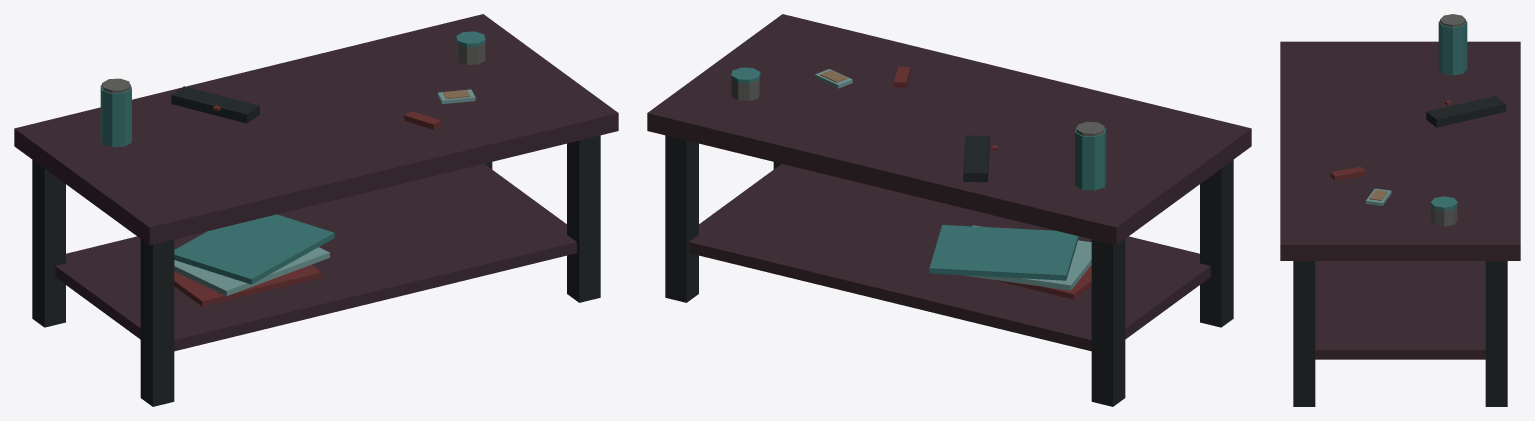
Rendered from masuta.glb.
3 renders of one model, left to right at view 1: azimuth 30°, elevation 25°; view 2: azimuth 150°, elevation 25°; view 3: azimuth 270°, elevation 25°, orthographic. The views are drawn at different scales.
Visible parts, largest first — view 1: Masuta; view 2: Masuta; view 3: Masuta.
Boxes of the visible parts, x1,y1,x2,y2 form: Masuta: [14, 14, 618, 406]; Masuta: [647, 14, 1251, 406]; Masuta: [1280, 14, 1520, 406].
Bounding box in the file's own units: 1.1 × 0.546 × 0.55.
